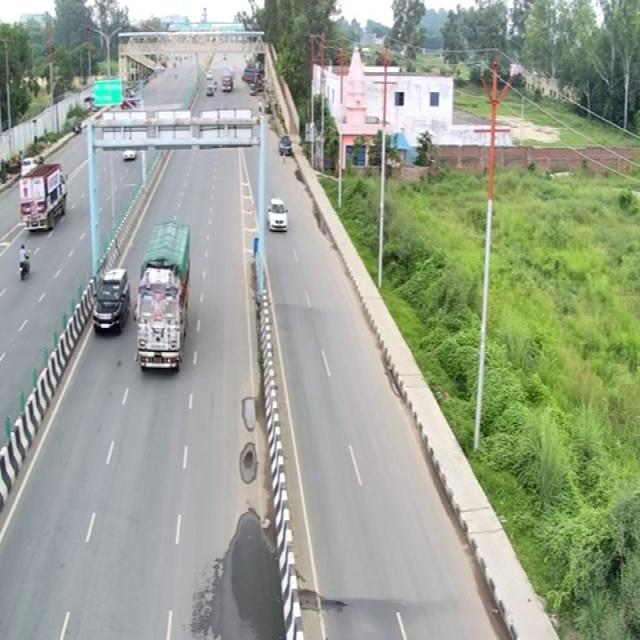car: (116, 193, 173, 250), (350, 144, 390, 175)
